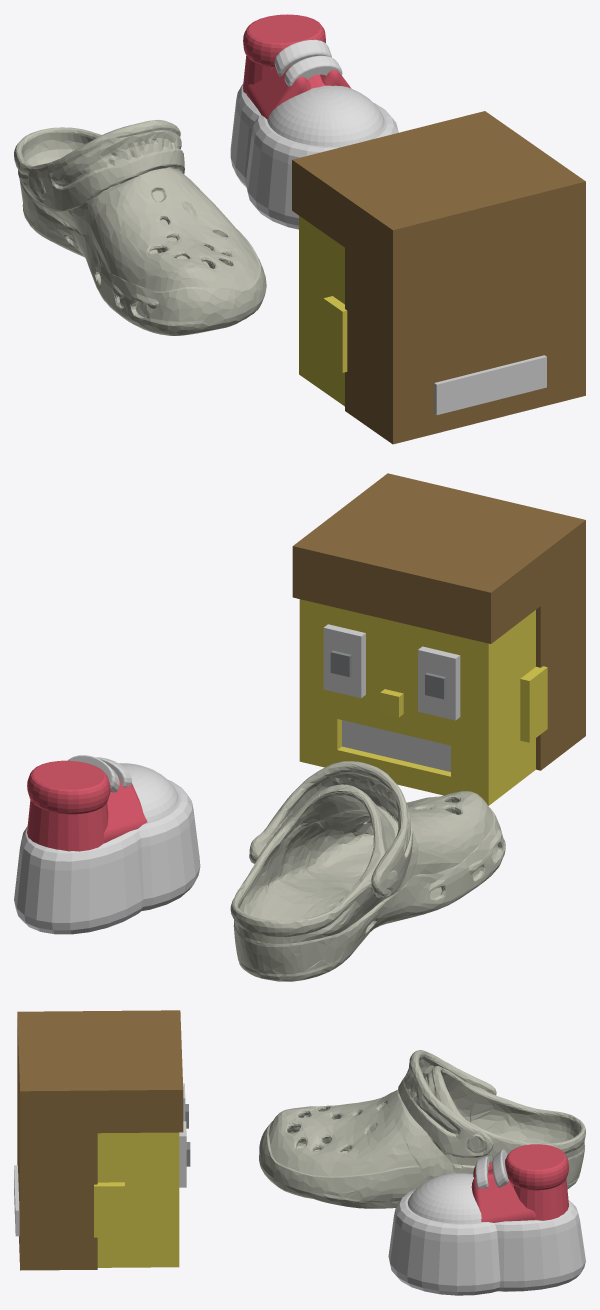
Rendered from tinker.glb.
3 views of the same model, one above another, from view 1: azimuth 30°, elevation 25°; view 2: azimuth 150°, elevation 25°; view 3: azimuth 270°, elevation 25° (orthographic). The views are drawn at different scales.
Parts seen in each view (by area): view 1: Mesh_Mesh_head_geo.001_lambert2SG.001; view 2: Mesh_Mesh_head_geo.001_lambert2SG.001; view 3: Mesh_Mesh_head_geo.001_lambert2SG.001.
Boxes of the visible parts, left/top/right/bottom form: Mesh_Mesh_head_geo.001_lambert2SG.001: left=14, top=14, right=585, bottom=444; Mesh_Mesh_head_geo.001_lambert2SG.001: left=14, top=473, right=585, bottom=981; Mesh_Mesh_head_geo.001_lambert2SG.001: left=14, top=1010, right=585, bottom=1295.
Size of the model in its own units: 1.03 by 0.6 by 1.74.
